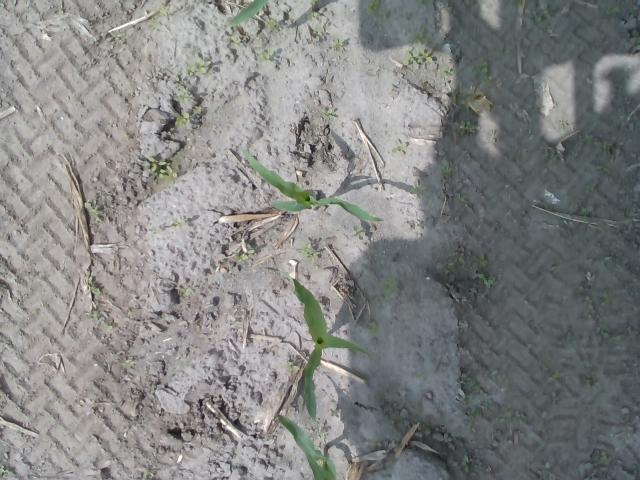Maize: (289, 276, 372, 422), (241, 151, 382, 224), (275, 414, 337, 480), (222, 0, 270, 30)
Weeds: (576, 286, 626, 346), (561, 118, 620, 157), (442, 252, 496, 288), (404, 28, 433, 66), (144, 156, 180, 180), (472, 57, 498, 88), (592, 451, 610, 480), (186, 56, 208, 78), (382, 278, 402, 302), (367, 1, 390, 21), (454, 118, 482, 134), (232, 244, 252, 262), (304, 246, 321, 264), (255, 48, 272, 64), (167, 216, 185, 231), (366, 319, 380, 337), (462, 451, 472, 474), (172, 112, 187, 127), (595, 162, 613, 174), (453, 192, 468, 206), (578, 205, 596, 216), (264, 16, 278, 30), (321, 107, 336, 120), (87, 200, 100, 215), (582, 376, 594, 392), (368, 440, 384, 452), (441, 67, 458, 78), (176, 91, 192, 102), (88, 285, 104, 296), (311, 28, 321, 44), (388, 144, 400, 156), (230, 34, 240, 48), (440, 166, 454, 176), (332, 39, 343, 51), (178, 287, 192, 296), (286, 362, 296, 374), (120, 359, 132, 369), (352, 226, 362, 238), (415, 0, 432, 6), (158, 6, 168, 16), (0, 464, 5, 474)
